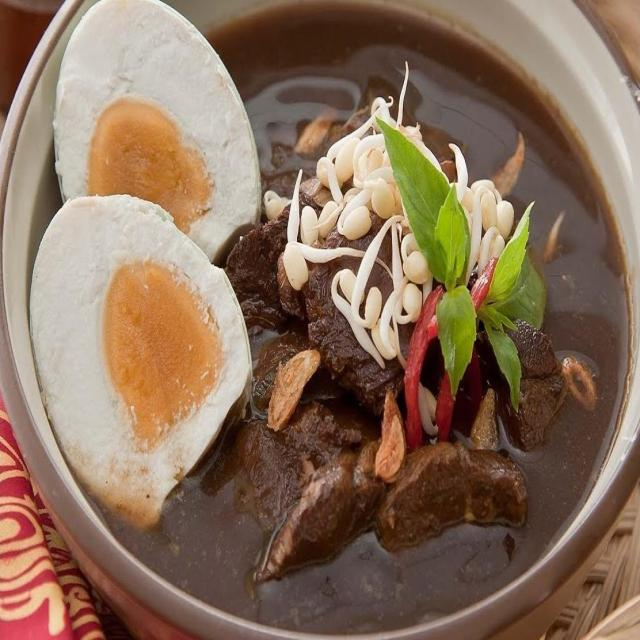Rawon: (51, 9, 611, 608)
